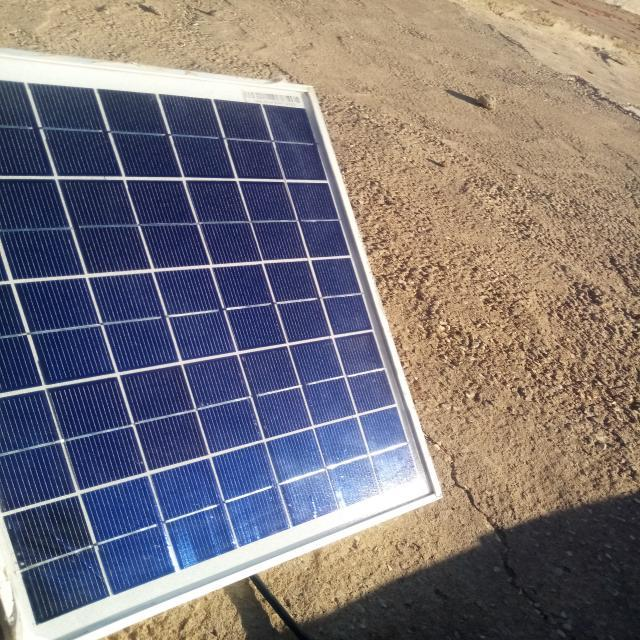no faulty: (4, 54, 441, 637)
